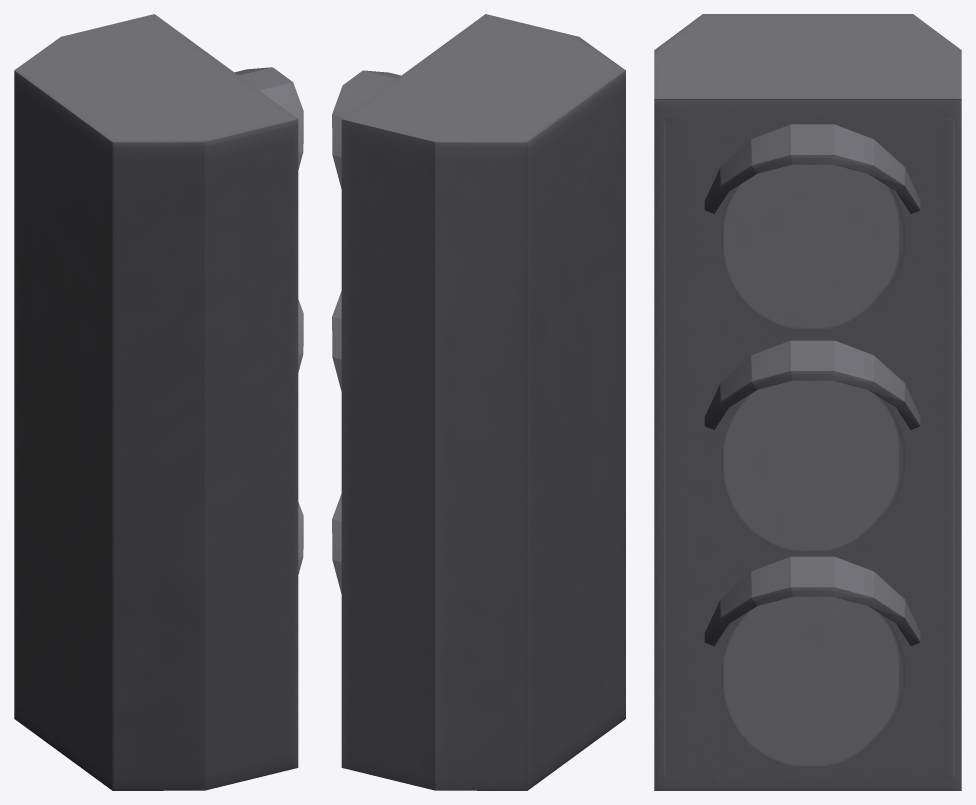
File: upper part2.FBX
The picture shows the model from 3 angles, left to right: view 1: azimuth 30°, elevation 25°; view 2: azimuth 150°, elevation 25°; view 3: azimuth 270°, elevation 25°; orthographic projection. The views are drawn at different scales.
Visible parts, largest first — view 1: Object001; view 2: Object001; view 3: Object001.
Part boxes in pixels (x1,y1,x2,y2): Object001: [14, 14, 303, 790]; Object001: [332, 14, 625, 790]; Object001: [654, 14, 961, 790].
Bounding box in the file's own units: 0.5052 × 1.41 × 0.5681.
